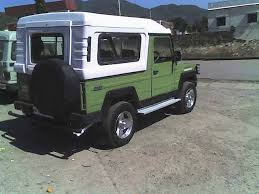Vehicle: (13, 12, 201, 144)
